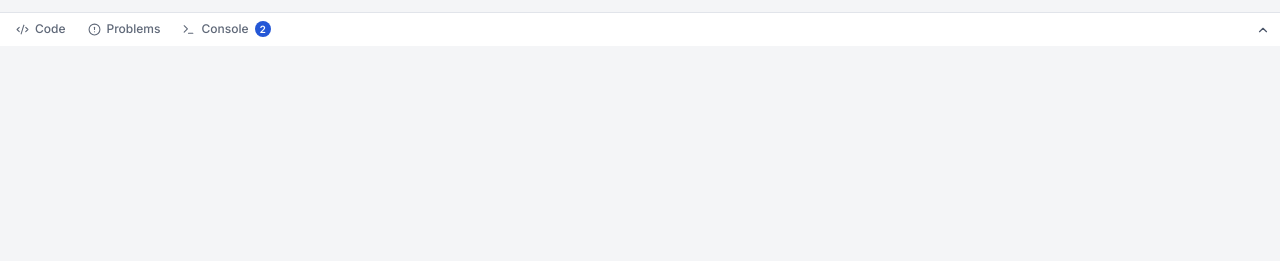
Scenario: <BottomPanel> › lists console entries with filters, details and clear; badges new entries in preview
The width and height of the screenshot is (1280, 261).
expect the text named "new" is shown: met, box [254,21,271,37]
What coordinates should you click on to do the following:
click the tab "Console 2"
I would click on:
 (227, 30)
Its box is [172,13,281,47].
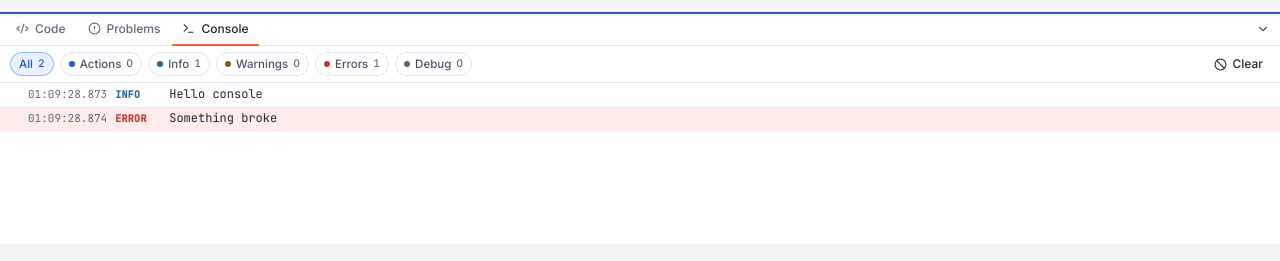
expect the text "Hello console" is shown: met, box [169,86,263,102]
expect the text "Something broke" is shown: met, box [169,110,277,126]
What coordinates should you click on to do the following:
click the button "Errors 1"
I would click on:
 (352, 64)
Its box is [315,52,389,76].
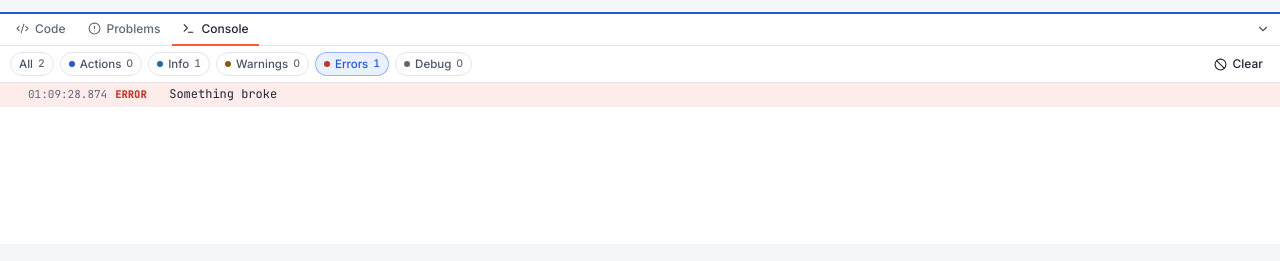
expect the text "Something broke" is shown: met, box [169,86,277,102]
expect the text "Hello console" is gone: met
What coordinates should you click on to do the following:
click the button "All 2"
I would click on:
 (32, 64)
Its box is [10,52,54,76].
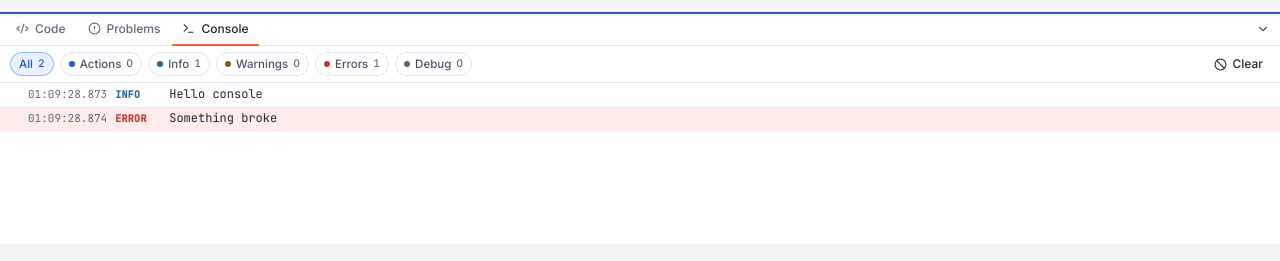
What coordinates should you click on to do the following:
click the button "Clear"
I would click on:
 (1238, 64)
Its box is [1204,51,1272,77].
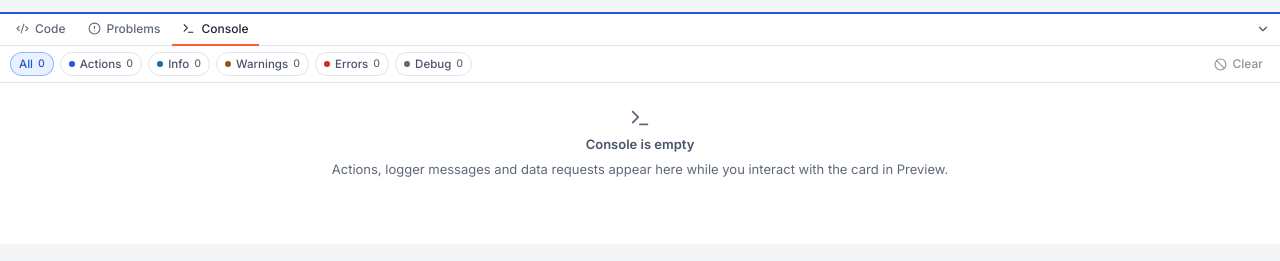
expect the text "Console is empty" is shown: met, box [586,135,694,154]
